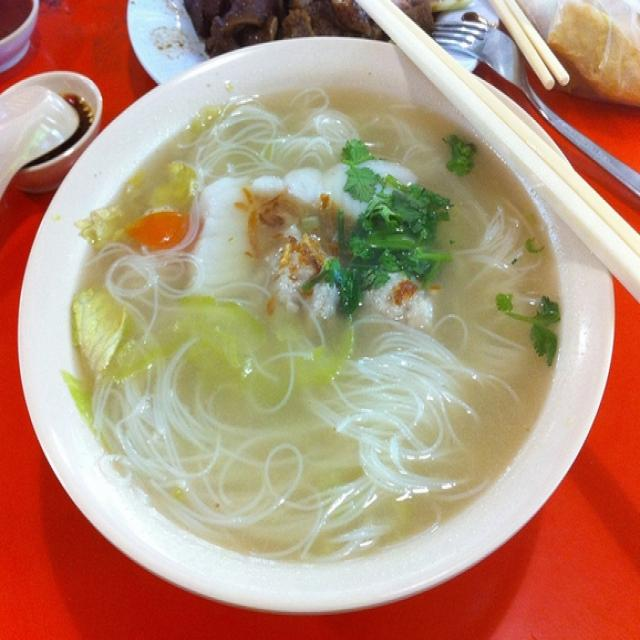面条主食: (41, 41, 589, 568)
